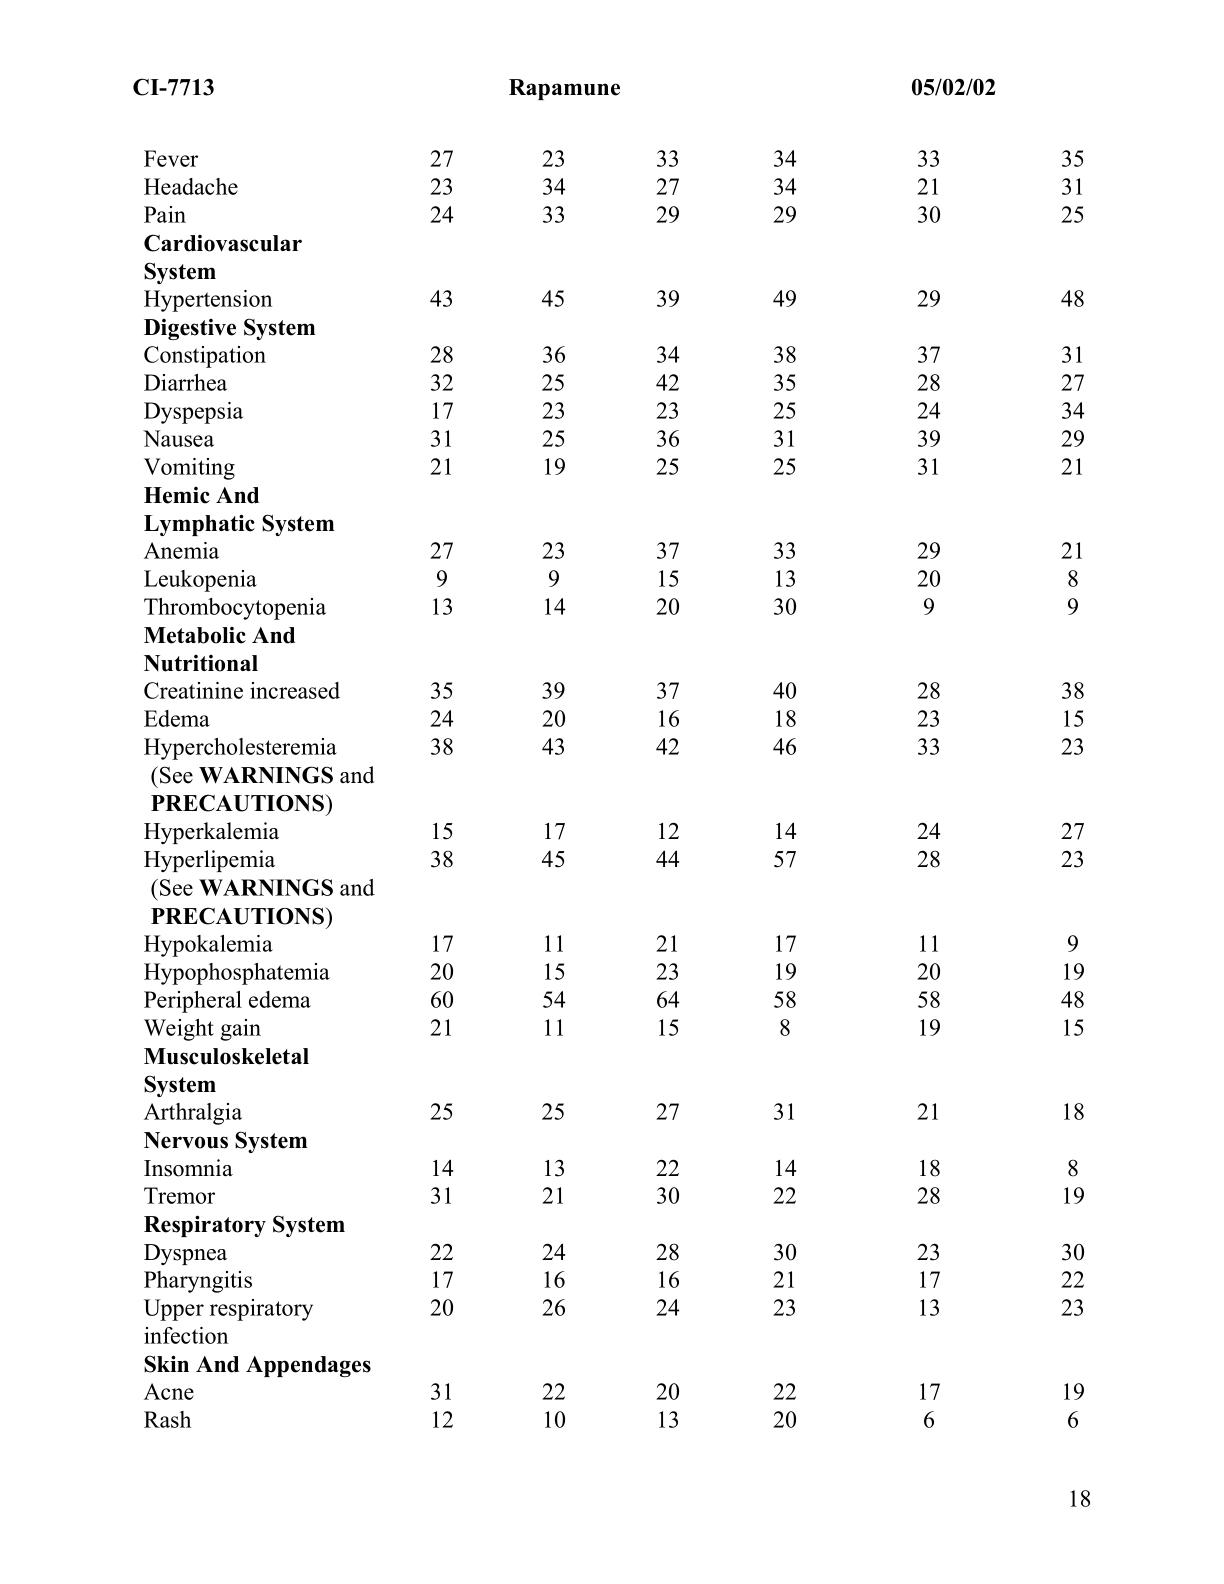nolines: (141, 145, 1090, 1434)
